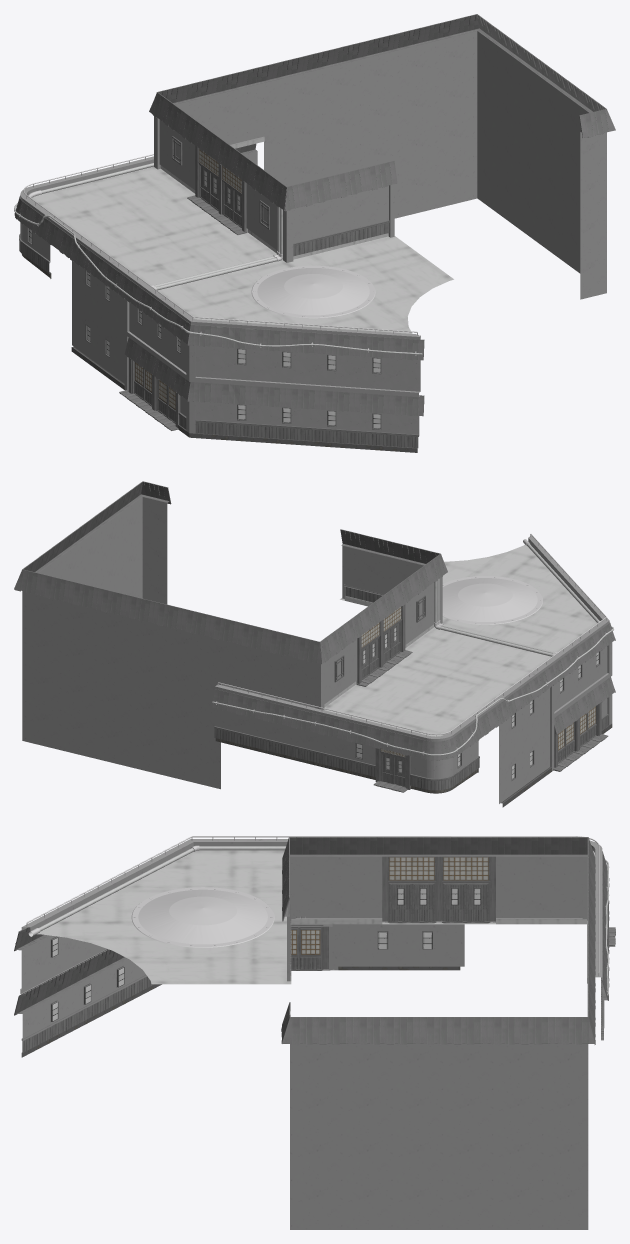
The model's file is SM_ENV_KNVLLG_AreaJ_Building_A_Part02.mo.fbx.
The picture shows the model from 3 angles, top to bottom: view 1: azimuth 30°, elevation 25°; view 2: azimuth 150°, elevation 25°; view 3: azimuth 270°, elevation 25°; orthographic projection. The views are drawn at different scales.
Visible parts, largest first — view 1: SM_ENV_KNVLLG_AreaJ_Building_A_Part02.mo; view 2: SM_ENV_KNVLLG_AreaJ_Building_A_Part02.mo; view 3: SM_ENV_KNVLLG_AreaJ_Building_A_Part02.mo.
Part boxes in pixels (bbox=[...]): SM_ENV_KNVLLG_AreaJ_Building_A_Part02.mo: bbox=[14, 14, 615, 452]; SM_ENV_KNVLLG_AreaJ_Building_A_Part02.mo: bbox=[14, 481, 615, 807]; SM_ENV_KNVLLG_AreaJ_Building_A_Part02.mo: bbox=[14, 836, 615, 1229].
Bounding box in the file's own units: 44.46 × 16.51 × 42.37.
